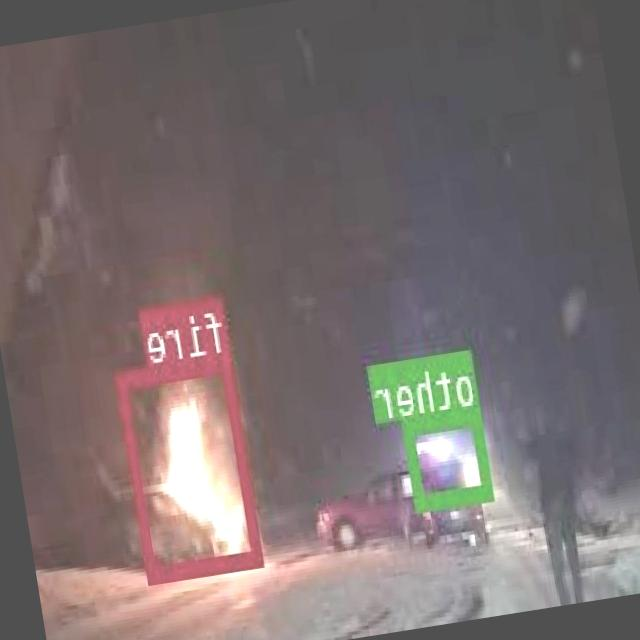fire: (117, 354, 265, 582)
